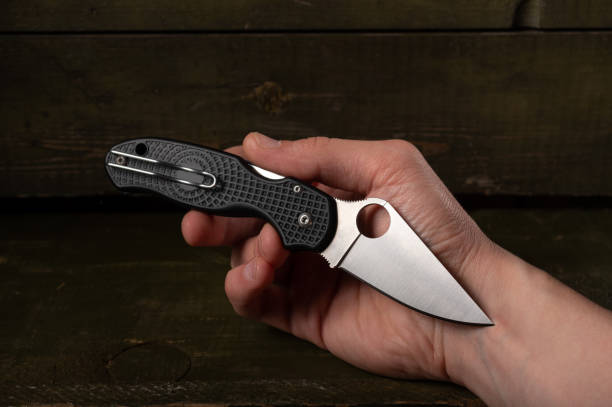knife: (102, 134, 495, 329)
